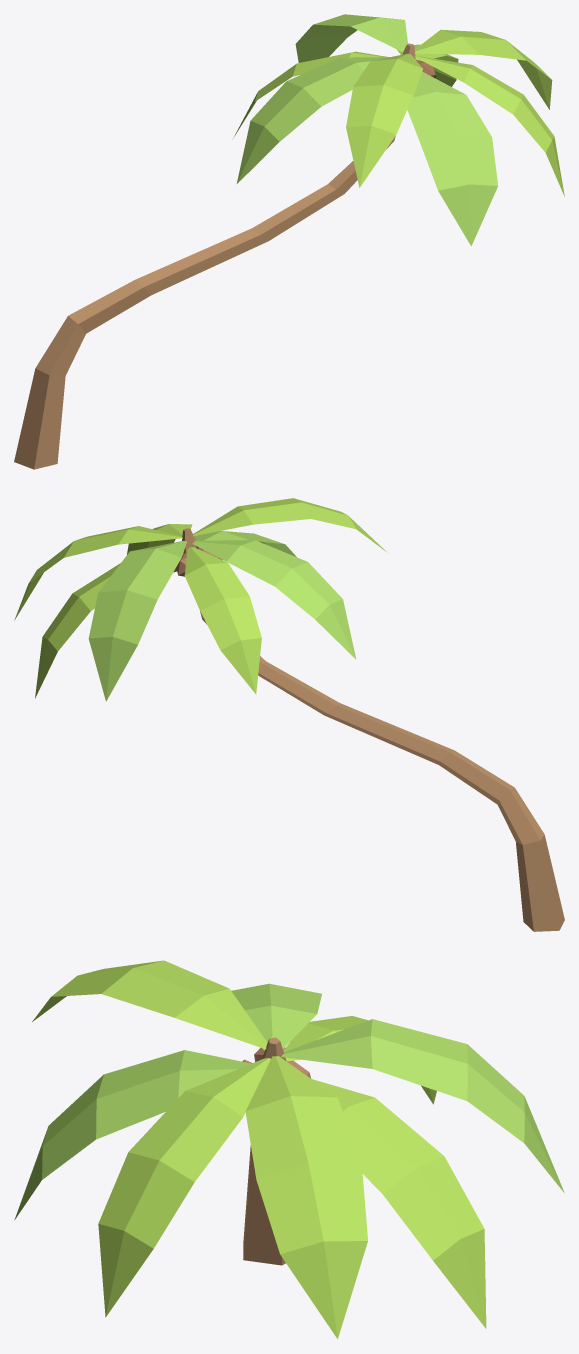
File: Palm_Tree_Coconut_OneSided_m_05_LOD.fbx
3 views of the same model, one above another, from view 1: azimuth 30°, elevation 25°; view 2: azimuth 150°, elevation 25°; view 3: azimuth 270°, elevation 25° (orthographic). The views are drawn at different scales.
Visible parts, largest first — view 1: Palm_Tree_Coconut_OneSided_m_05_LOD0; view 2: Palm_Tree_Coconut_OneSided_m_05_LOD0; view 3: Palm_Tree_Coconut_OneSided_m_05_LOD0.
Boxes of the visible parts, box(x1,y1,x2,y2) form: Palm_Tree_Coconut_OneSided_m_05_LOD0: box(14, 14, 564, 469); Palm_Tree_Coconut_OneSided_m_05_LOD0: box(14, 498, 564, 931); Palm_Tree_Coconut_OneSided_m_05_LOD0: box(14, 960, 564, 1338).
Size of what is drawn, in the model's own units: 581 by 336 by 332.
